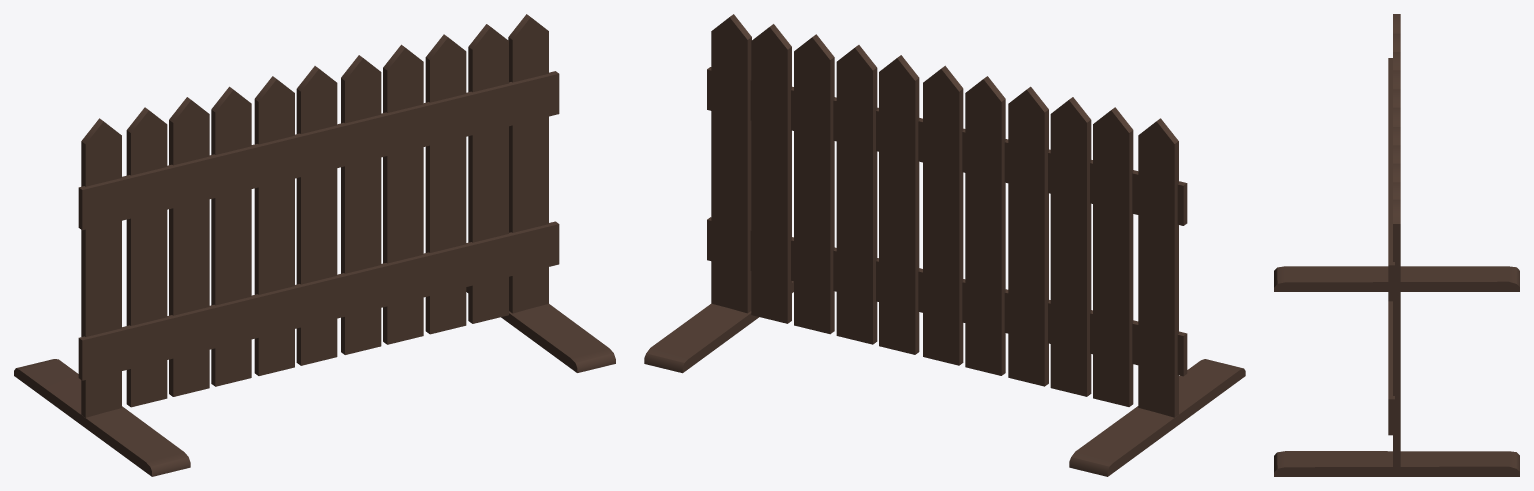
File: saku.fbx
3 views of the same model, side by side, from view 1: azimuth 30°, elevation 25°; view 2: azimuth 150°, elevation 25°; view 3: azimuth 270°, elevation 25° (orthographic). The views are drawn at different scales.
Visible parts, largest first — view 1: pCube15, pCube14, pCube6, pCube13, pCube10, pCube5, pCube12, pCube7, pCube8, pCube11, pCube9, pCube4 (+3 smaller); view 2: pCube7, pCube12, pCube5, pCube8, pCube9, pCube10, pCube11, pCube13, pCube6, pCube4, pCube3, pCube1 (+3 smaller); view 3: pCube2, pCube1, pCube3, pCube15, pCube14.
Part boxes in pixels (<box>): pCube15: <box>78,71,559,230</box>; pCube14: <box>78,221,559,380</box>; pCube6: <box>126,107,167,407</box>; pCube13: <box>425,34,466,334</box>; pCube10: <box>296,66,337,365</box>; pCube5: <box>468,24,508,323</box>; pCube12: <box>383,44,423,344</box>; pCube7: <box>169,97,209,396</box>; pCube8: <box>211,86,251,386</box>; pCube11: <box>341,55,381,354</box>; pCube9: <box>254,76,294,375</box>; pCube4: <box>81,118,121,417</box>; pCube7: <box>1050,97,1091,396</box>; pCube12: <box>836,45,877,344</box>; pCube5: <box>751,24,791,323</box>; pCube8: <box>1008,86,1048,386</box>; pCube9: <box>965,76,1005,375</box>; pCube10: <box>923,65,963,365</box>; pCube11: <box>879,55,919,354</box>; pCube13: <box>794,34,834,334</box>; pCube6: <box>1093,107,1133,406</box>; pCube4: <box>1138,118,1178,417</box>; pCube3: <box>711,14,751,313</box>; pCube1: <box>1069,359,1245,476</box>; pCube2: <box>1274,451,1519,476</box>; pCube1: <box>1274,266,1519,291</box>; pCube3: <box>1393,199,1400,466</box>; pCube15: <box>1388,58,1394,301</box>; pCube14: <box>1388,301,1394,435</box>.
Size of the model in its own units: 12.38 by 7.5 by 6.2.
